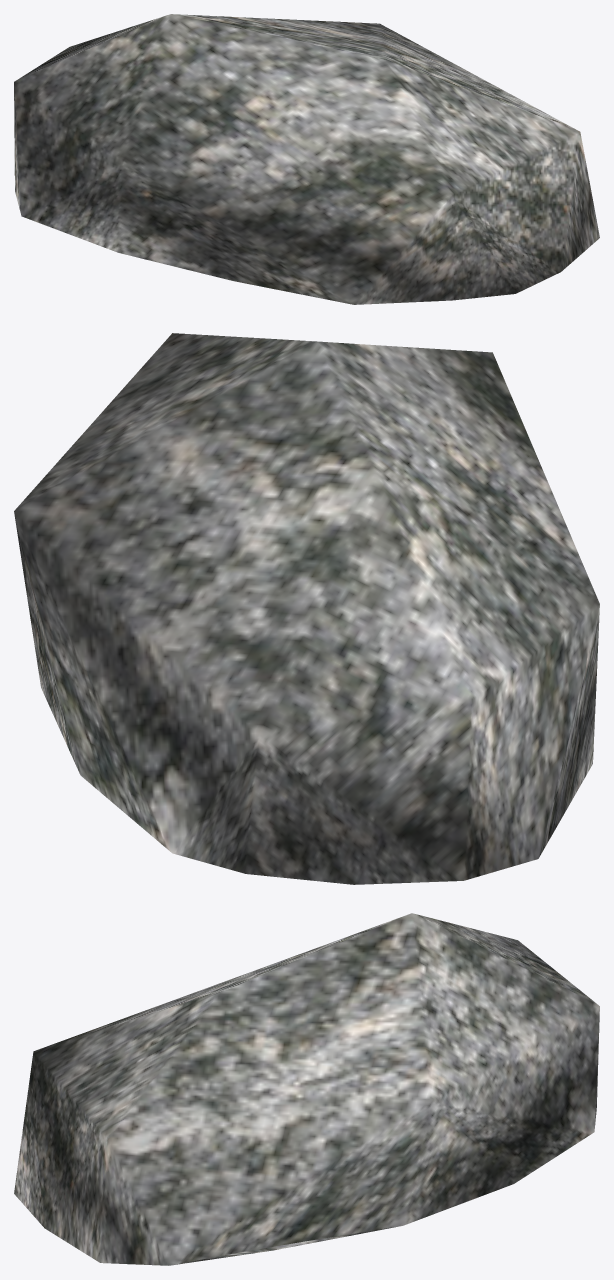
The model's file is stone8_tex2.fbx.
3 views of the same model, one above another, from view 1: azimuth 30°, elevation 25°; view 2: azimuth 150°, elevation 25°; view 3: azimuth 270°, elevation 25° (orthographic). The views are drawn at different scales.
Parts seen in each view (by area): view 1: stone8_tex2Object; view 2: stone8_tex2Object; view 3: stone8_tex2Object.
Part boxes in pixels (x1,y1,x2,y2): stone8_tex2Object: [14, 14, 599, 304]; stone8_tex2Object: [14, 333, 599, 884]; stone8_tex2Object: [14, 913, 599, 1265].
Bounding box in the file's own units: 0.5925 × 0.2616 × 0.6809.
Materials: 1 (1 with a texture image).
